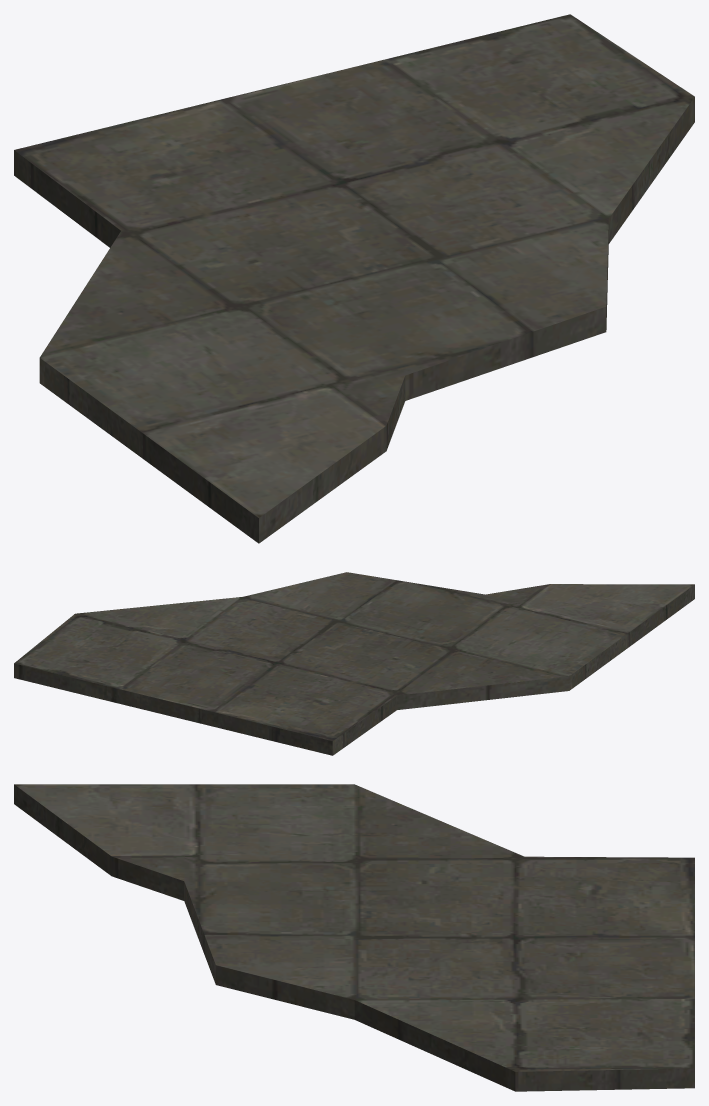
File: environment_stone_dizhuan_001_a.FBX
3 renders of one model, top to bottom at view 1: azimuth 30°, elevation 25°; view 2: azimuth 150°, elevation 25°; view 3: azimuth 270°, elevation 25°, orthographic. The views are drawn at different scales.
Parts seen in each view (by area): view 1: environment_stone_dizhuan_001_a; view 2: environment_stone_dizhuan_001_a; view 3: environment_stone_dizhuan_001_a.
Part boxes in pixels (x1=…): environment_stone_dizhuan_001_a: x1=14, y1=14, x2=694, y2=543; environment_stone_dizhuan_001_a: x1=14, y1=572, x2=694, y2=755; environment_stone_dizhuan_001_a: x1=14, y1=784, x2=694, y2=1091.
Size of the model in its own units: 314 by 10.11 by 315.
